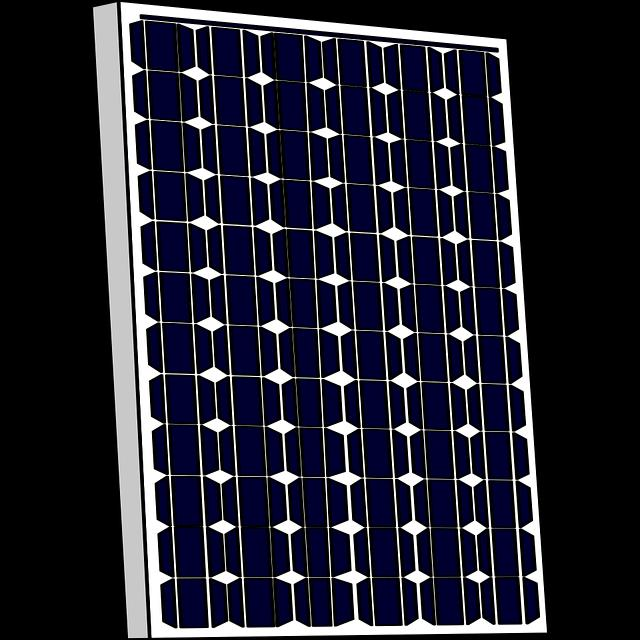clean-solar-panel: (135, 44, 516, 640)
